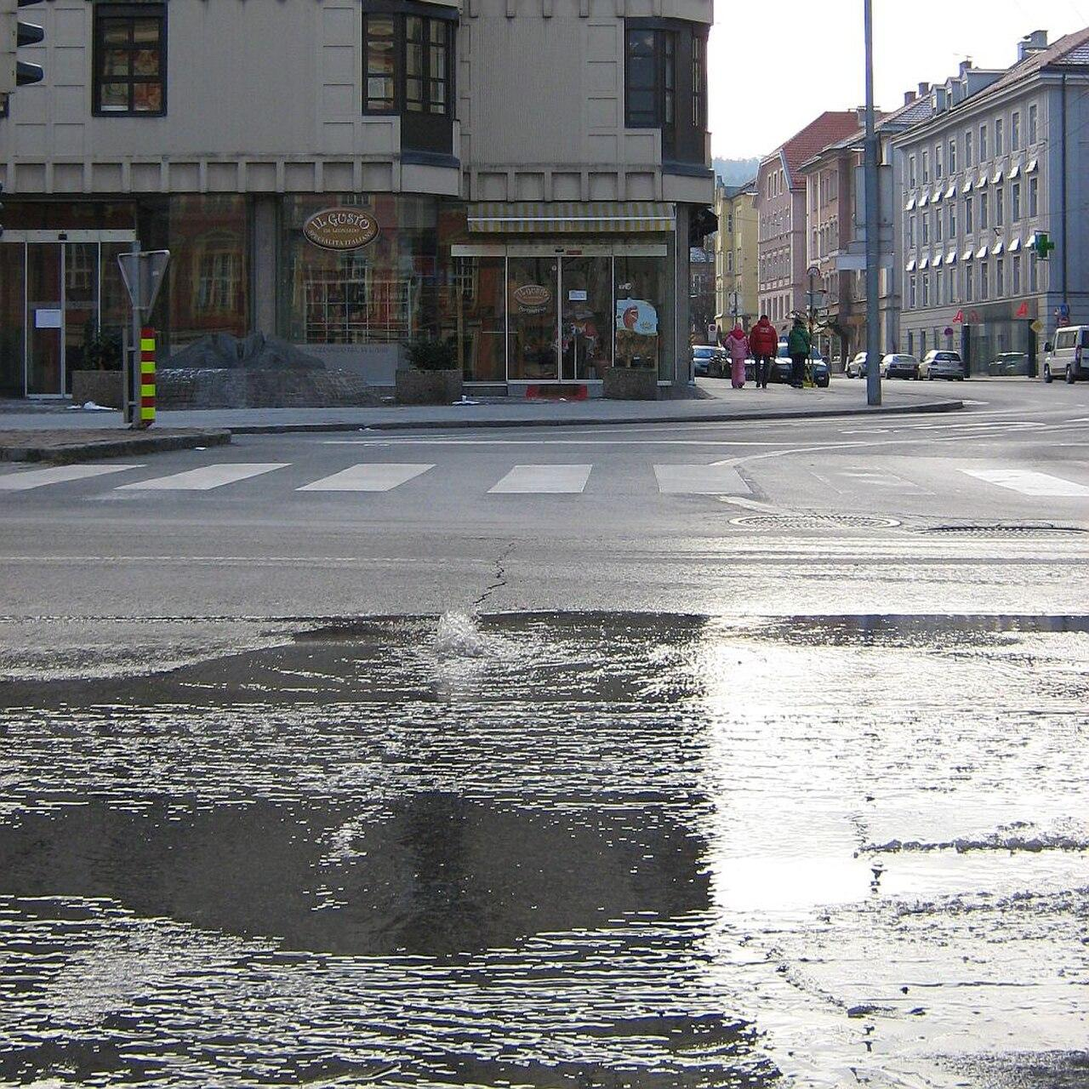water accumulation: (0, 609, 1089, 1089)
